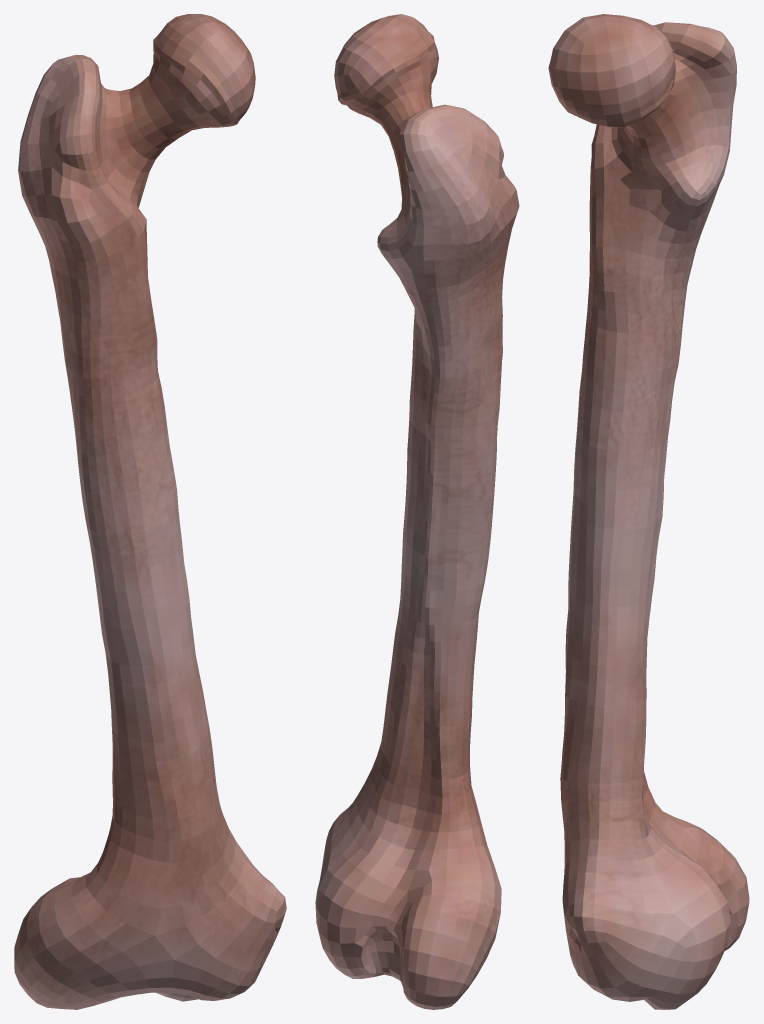
File: right_femur.obj
3 renders of one model, left to right at view 1: azimuth 30°, elevation 25°; view 2: azimuth 150°, elevation 25°; view 3: azimuth 270°, elevation 25°, orthographic. The views are drawn at different scales.
Parts seen in each view (by area): view 1: right_femur; view 2: right_femur; view 3: right_femur.
Boxes of the visible parts, x1,y1,x2,y2 form: right_femur: (14,14,286,1009); right_femur: (315,14,519,1009); right_femur: (548,14,749,1009).
Bounding box in the file's own units: 0.6808 × 3.05 × 0.5629.
